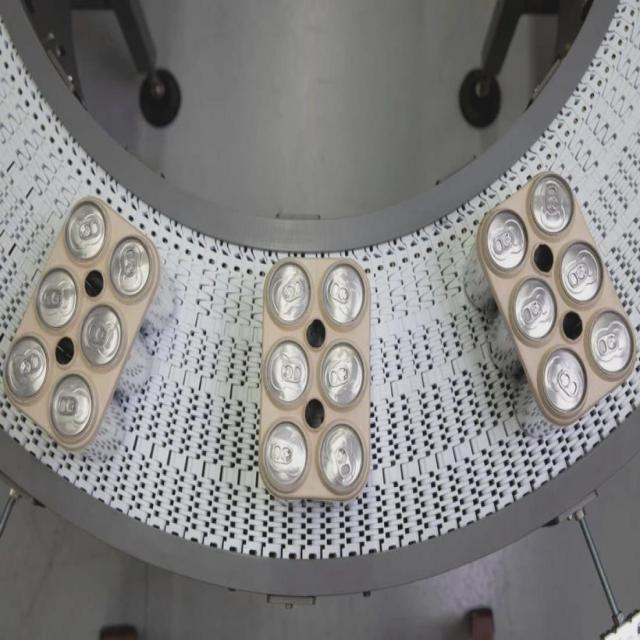bottle: (474, 170, 636, 428), (1, 193, 160, 454), (257, 254, 372, 503)
